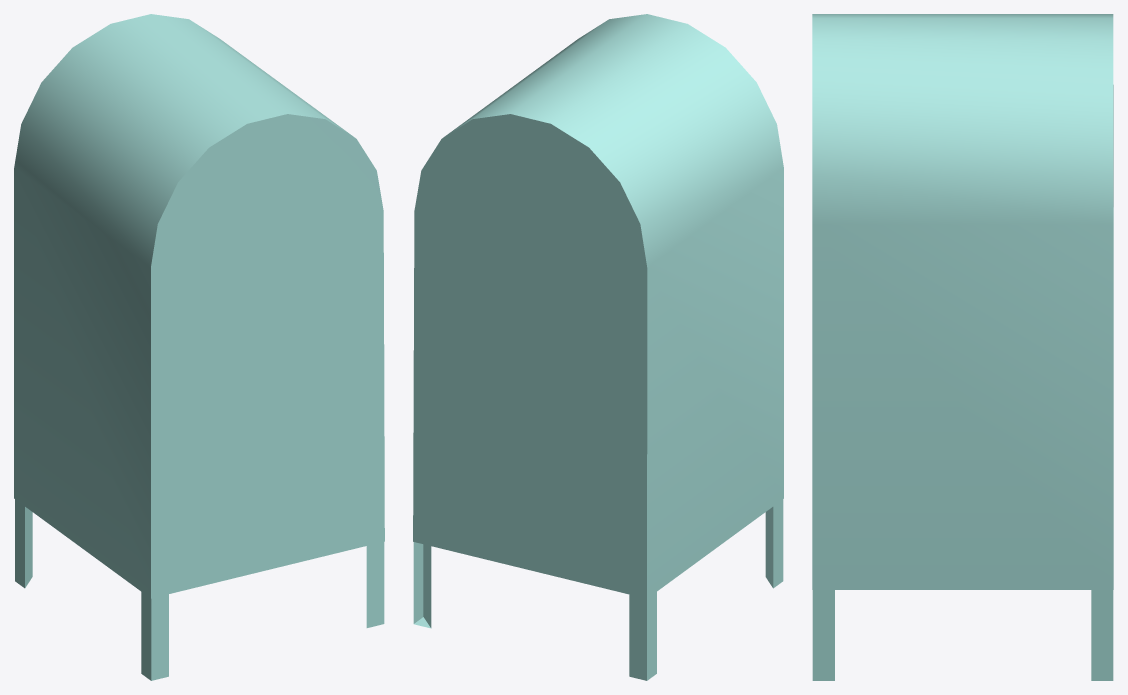
File: mailbox01.fbx
3 renders of one model, left to right at view 1: azimuth 30°, elevation 25°; view 2: azimuth 150°, elevation 25°; view 3: azimuth 270°, elevation 25°, orthographic. The views are drawn at different scales.
Visible parts, largest first — view 1: mailbox01_reference; view 2: mailbox01_reference; view 3: mailbox01_reference.
Part boxes in pixels (<box>): mailbox01_reference: <box>14,14,384,680</box>; mailbox01_reference: <box>413,14,783,680</box>; mailbox01_reference: <box>812,14,1113,680</box>.
Bounding box in the file's own units: 2176 × 4743 × 2203.
